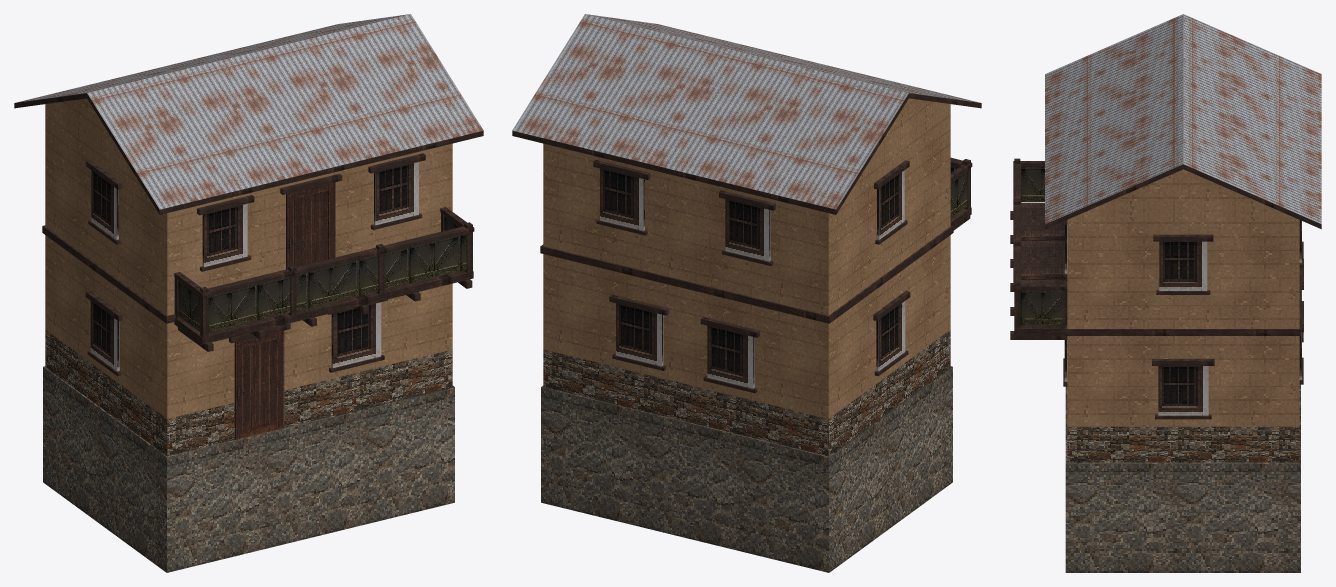
The model's file is 15_quincha2p_barro_calamina.glb.
3 views of the same model, side by side, from view 1: azimuth 30°, elevation 25°; view 2: azimuth 150°, elevation 25°; view 3: azimuth 270°, elevation 25° (orthographic). The views are drawn at different scales.
Parts seen in each view (by area): view 1: 15_quincha2p_barro_calamina; view 2: 15_quincha2p_barro_calamina; view 3: 15_quincha2p_barro_calamina.
Boxes of the visible parts, bbox=[...] form: 15_quincha2p_barro_calamina: bbox=[14, 14, 483, 572]; 15_quincha2p_barro_calamina: bbox=[512, 14, 981, 572]; 15_quincha2p_barro_calamina: bbox=[1010, 14, 1321, 572].
Size of the model in its own units: 7.04 by 9.11 by 6.17.
Materials: 8 (8 with a texture image).
